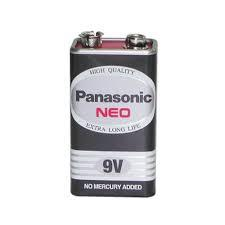battery: (52, 21, 176, 209)
